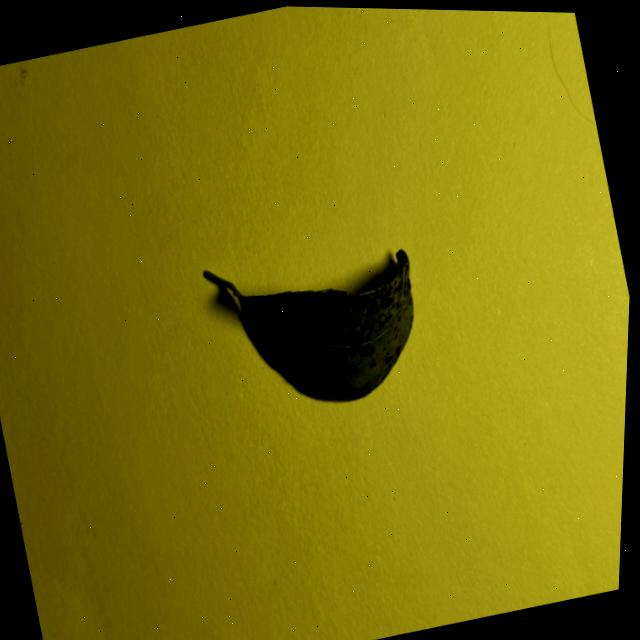sooty_mold: (204, 250, 412, 401)
